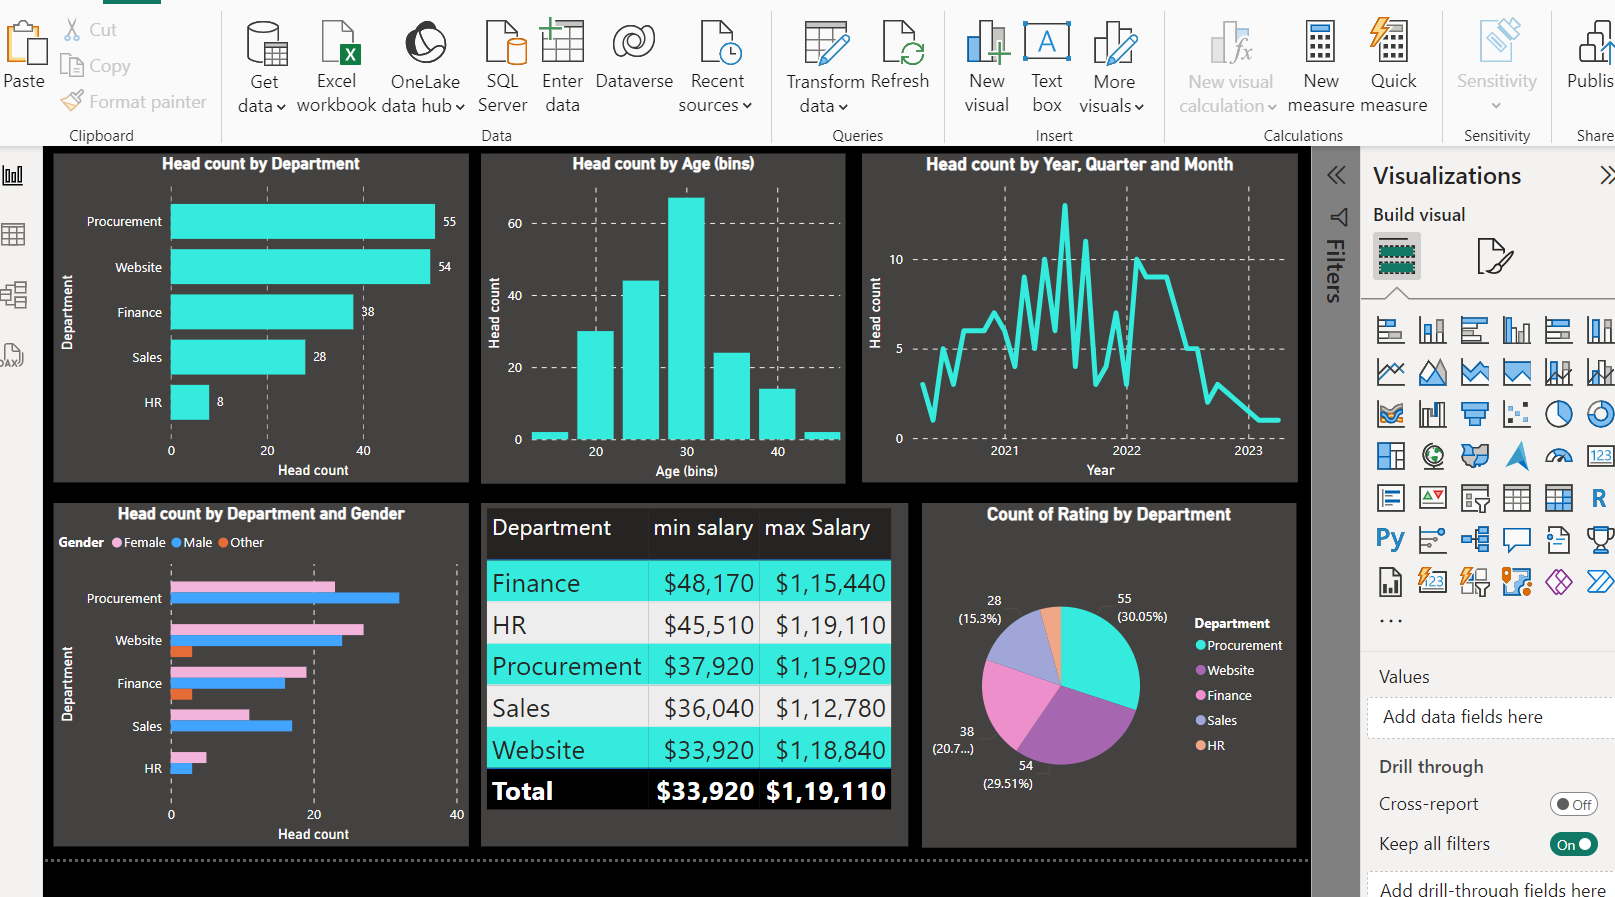

This screenshot's page, from the dashboard's own definition file:
{"tool":"powerbi","page":{"name":"Page 1","canvas":[1280,720],"ordinal":0},"visuals":[{"type":"clusteredBarChart","fields":{"Y":["Data.Head count"],"Category":["Data.Department"]},"box":[11,7,419,332],"z":0},{"type":"clusteredBarChart","fields":{"Category":["Data.Department"],"Y":["Data.Head count"],"Series":["Data.Gender"]},"box":[10.6,360.4,419.4,346.8],"z":1},{"type":"columnChart","fields":{"Category":["Data.Age (bins)"],"Y":["Data.Head count"]},"box":[442.1,7.6,368,333.1],"z":2},{"type":"tableEx","fields":{"Values":["Data.Department","Data.min salary","Data.max Salary"]},"box":[442.1,387.6,416.4,292.2],"z":3},{"type":"lineChart","fields":{"Y":["Data.Head count"],"Category":["Data.Date Joined.Variation.Date Hierarchy.Year","Data.Date Joined.Variation.Date Hierarchy.Quarter","Data.Date Joined.Variation.Date Hierarchy.Month","Data.Date Joined.Variation.Date Hierarchy.Day"]},"box":[826,8,440,332],"z":4},{"type":"pieChart","fields":{"Category":["Data.Department"],"Y":["CountNonNull(Data.Rating)"]},"box":[888,360,378,348],"z":5}]}

Visuals, with their boxes on the page's 1280x720 design canvas (x1, y1, x2, y2). These are canvas units, not pixel positions in the 1615x897 screenshot, which may show the page scaled, cropped or inside an application window:
clusteredBarChart - Data.Head count x Data.Department: 11/7/430/339
clusteredBarChart - Data.Department x Data.Head count: 11/360/430/707
columnChart - Data.Age (bins) x Data.Head count: 442/8/810/341
tableEx - Data.Department x Data.min salary: 442/388/858/680
lineChart - Data.Head count x Data.Date Joined.Variation.Date Hierarchy.Year: 826/8/1266/340
pieChart - Data.Department x CountNonNull(Data.Rating): 888/360/1266/708
